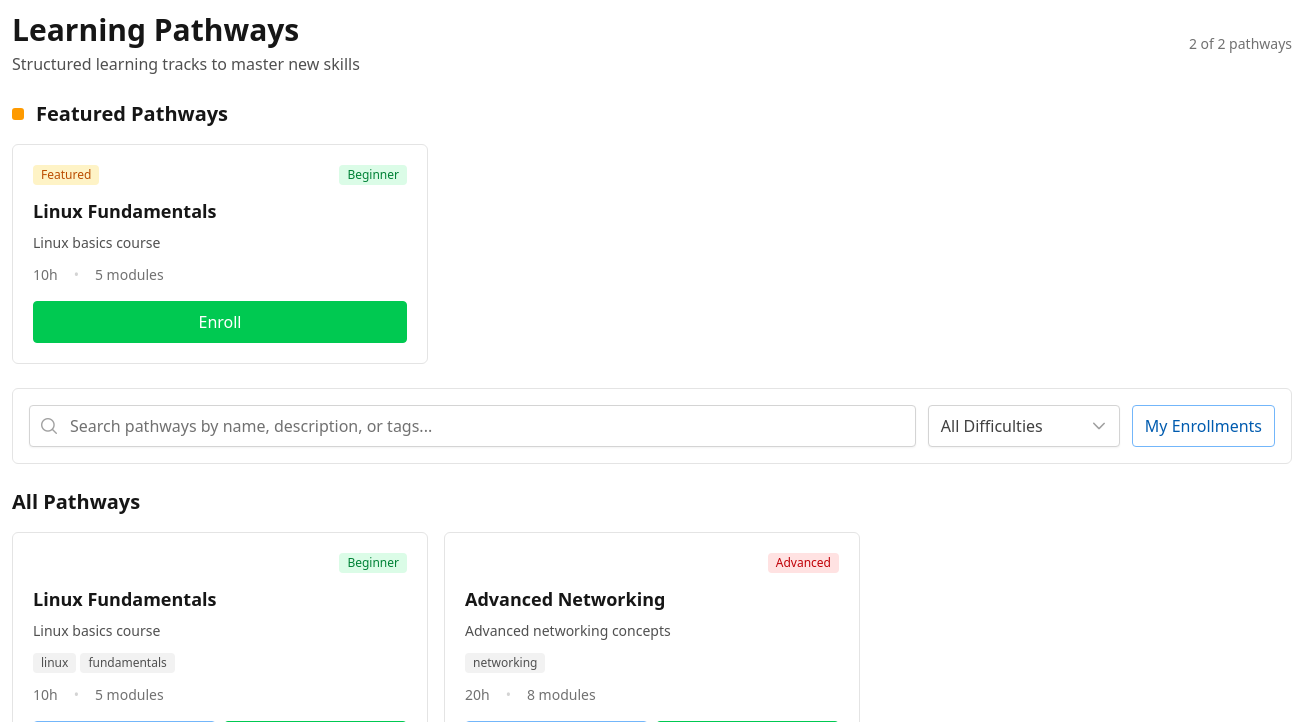
Test: PathwaysListView › empty states › should show no results message when filters match nothing
Type "nonexistent" into the field named "Search pathways by name, description, or tags" at (472, 426), box [29,405,916,447]
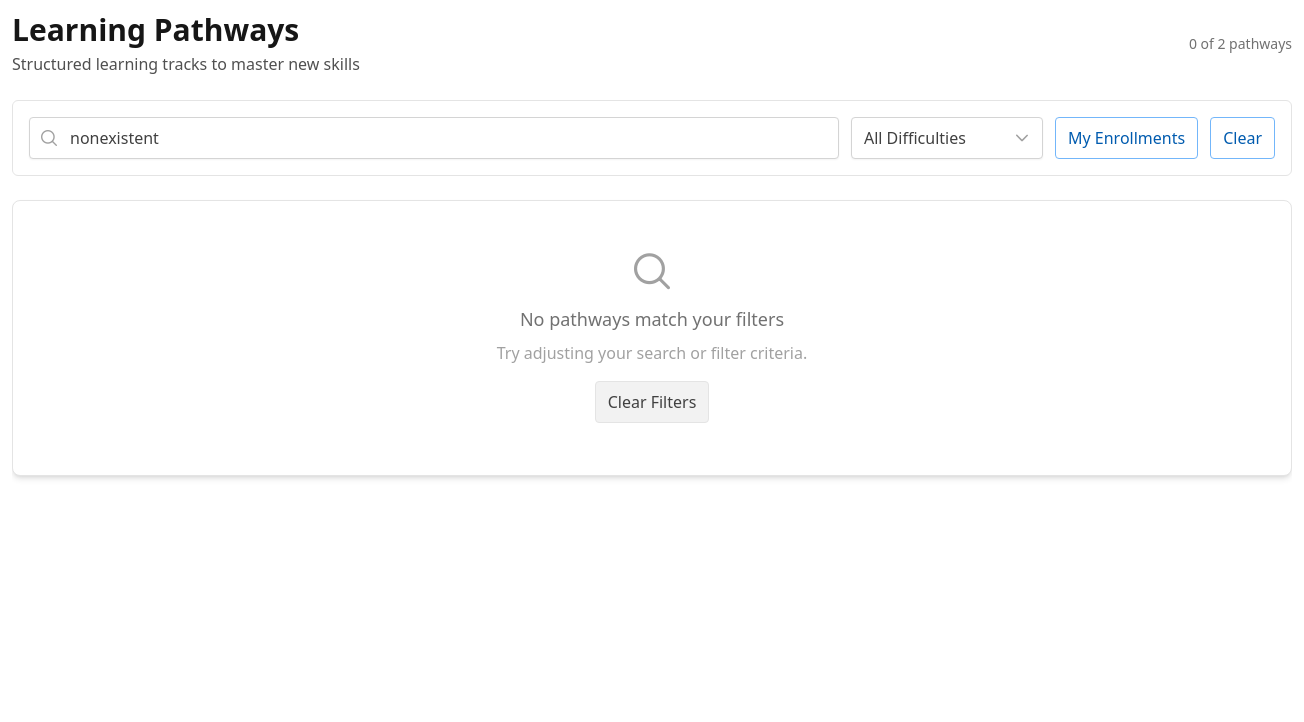
Result: the text "No pathways match your filters" is shown at [520,307,784,331]
